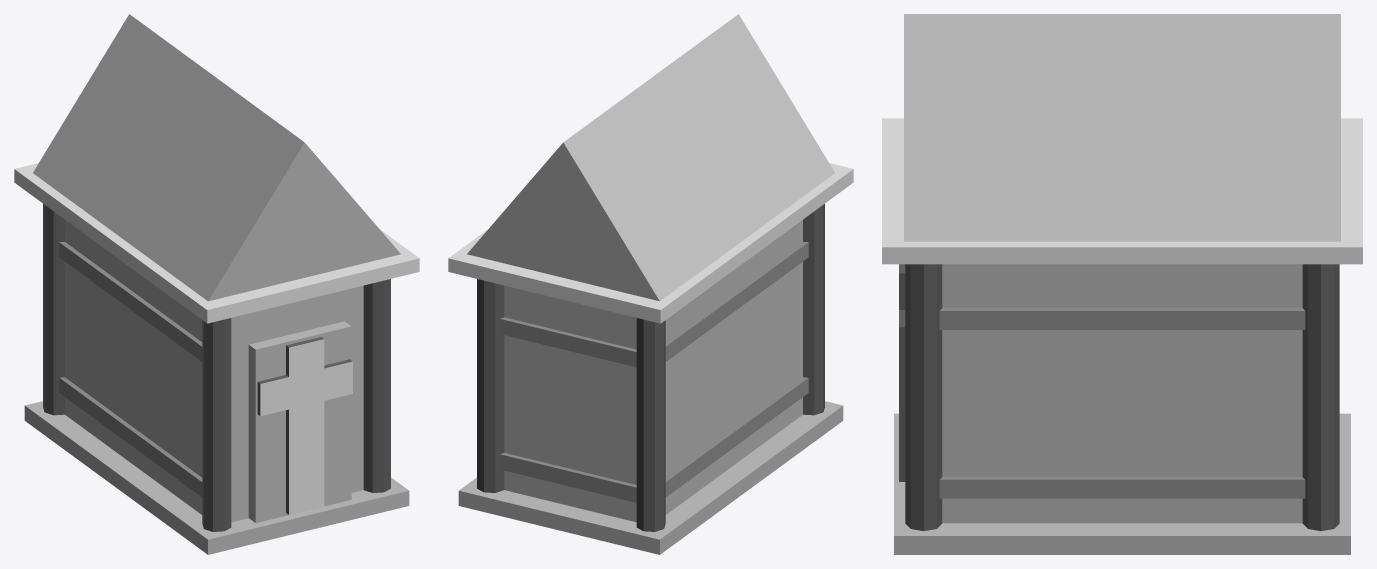
File: crypt_01.fbx
3 renders of one model, left to right at view 1: azimuth 30°, elevation 25°; view 2: azimuth 150°, elevation 25°; view 3: azimuth 270°, elevation 25°, orthographic. The views are drawn at different scales.
Parts seen in each view (by area): view 1: crypt_01; view 2: crypt_01; view 3: crypt_01.
Part boxes in pixels (box(x1,y1,x2,y2)): crypt_01: box(14, 14, 419, 554); crypt_01: box(448, 14, 853, 554); crypt_01: box(882, 14, 1362, 554).
Bounding box in the file's own units: 3.28 × 5.69 × 5.16.
